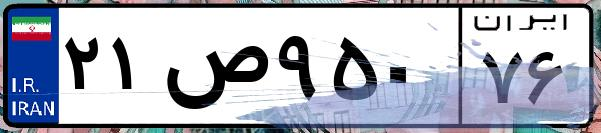0: (385, 28, 445, 110)
1: (110, 28, 158, 98)
2: (57, 26, 110, 100)
5: (330, 28, 385, 110)
6: (525, 38, 570, 115)
7: (475, 38, 525, 113)
9: (270, 28, 330, 110)
ص: (158, 20, 270, 120)
